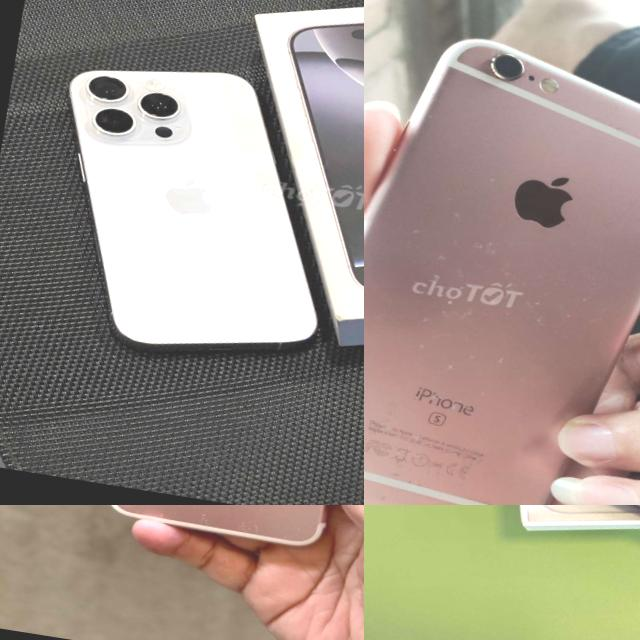gen_12_13: (409, 505, 640, 563)
gen_16: (17, 38, 357, 382)
gen_6: (364, 41, 640, 505)
gen_7_8: (94, 505, 364, 553)
scratch: (400, 294, 559, 414), (104, 505, 336, 545), (518, 266, 624, 348), (579, 93, 640, 232), (364, 447, 506, 505), (466, 42, 568, 118), (465, 233, 520, 276), (444, 193, 481, 233)
